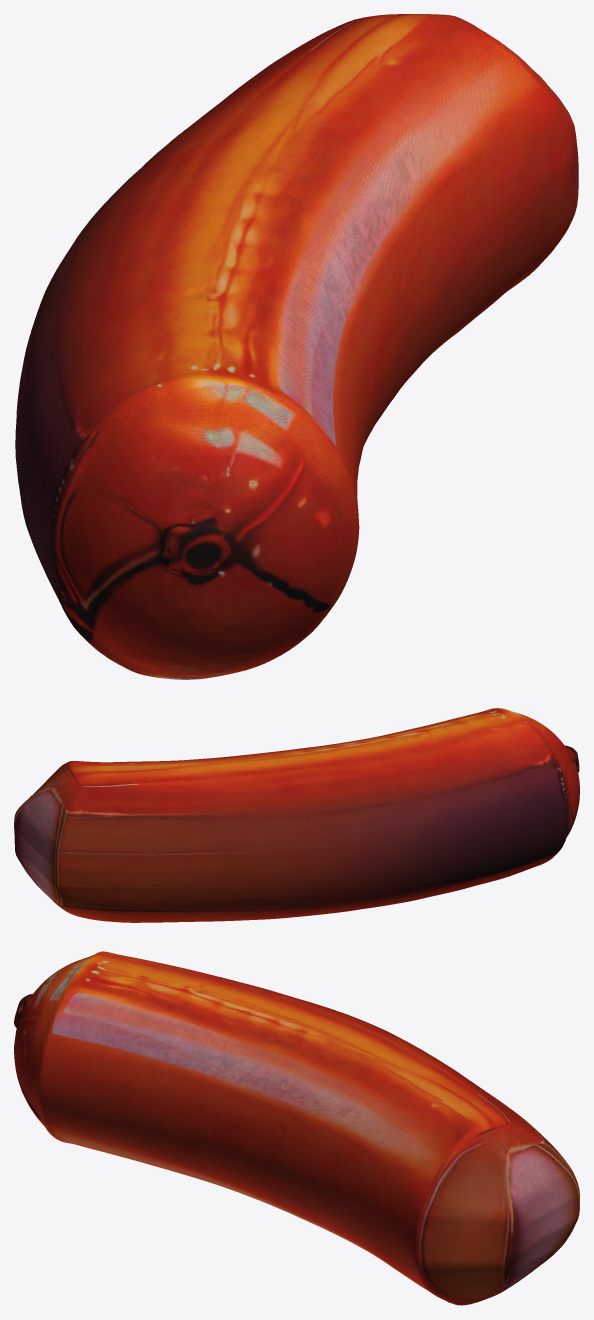
The model's file is image_0005_segmented.glb.
The picture shows the model from 3 angles, top to bottom: view 1: azimuth 30°, elevation 25°; view 2: azimuth 150°, elevation 25°; view 3: azimuth 270°, elevation 25°; orthographic projection. The views are drawn at different scales.
Visible parts, largest first — view 1: tmp83c_kbx2.ply; view 2: tmp83c_kbx2.ply; view 3: tmp83c_kbx2.ply.
Boxes of the visible parts, bbox=[...] form: tmp83c_kbx2.ply: bbox=[15, 14, 578, 679]; tmp83c_kbx2.ply: bbox=[14, 708, 579, 922]; tmp83c_kbx2.ply: bbox=[14, 951, 579, 1305].
Bounding box in the file's own units: 1.93 × 0.709 × 1.99.
1 material, 1 textured.
